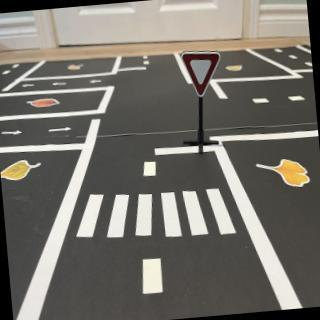road_crosswalk: (67, 176, 243, 251)
road_oneway: (45, 124, 73, 136), (1, 127, 23, 139), (21, 81, 38, 91), (53, 81, 69, 90), (89, 78, 105, 86)
sign_yield: (185, 51, 224, 100)
